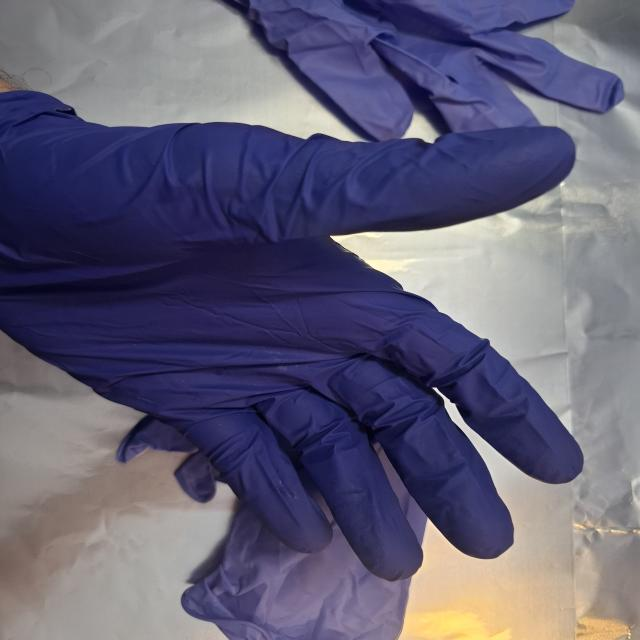glove_on: (0, 88, 588, 584)
